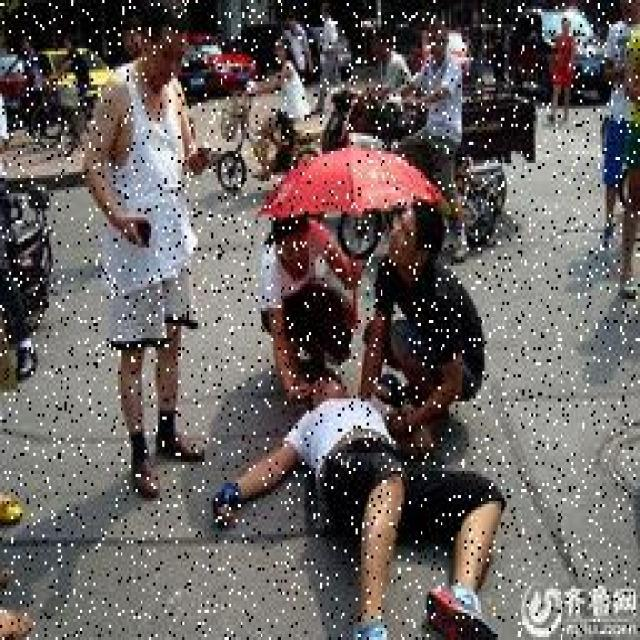fall: (242, 368, 491, 636)
